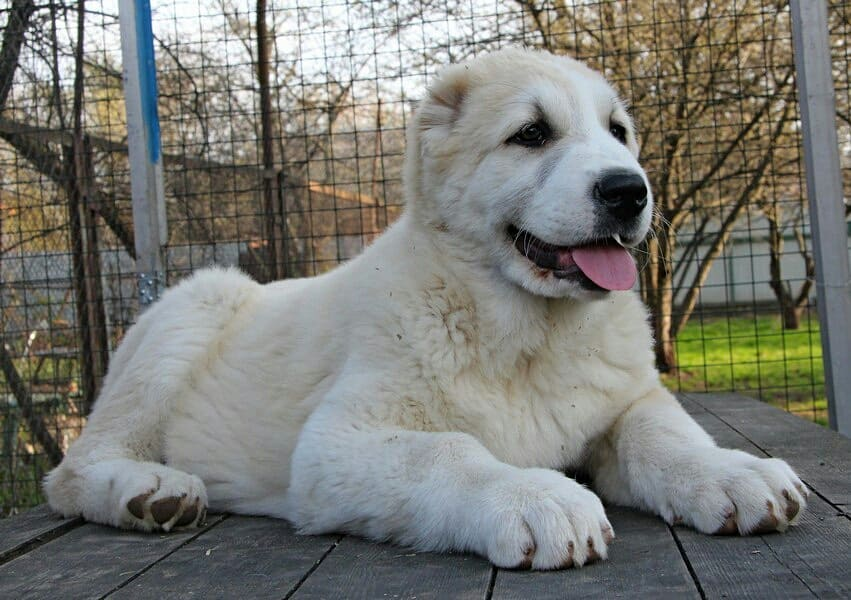dog: (19, 30, 821, 563)
